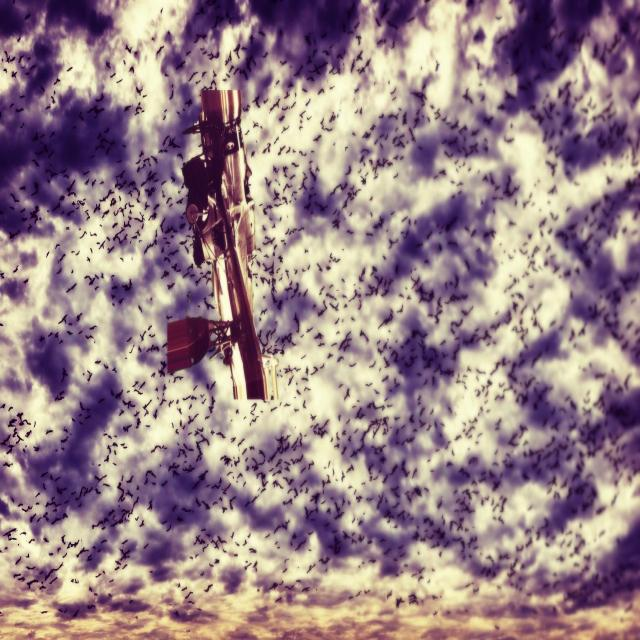airplane: (166, 86, 278, 402)
